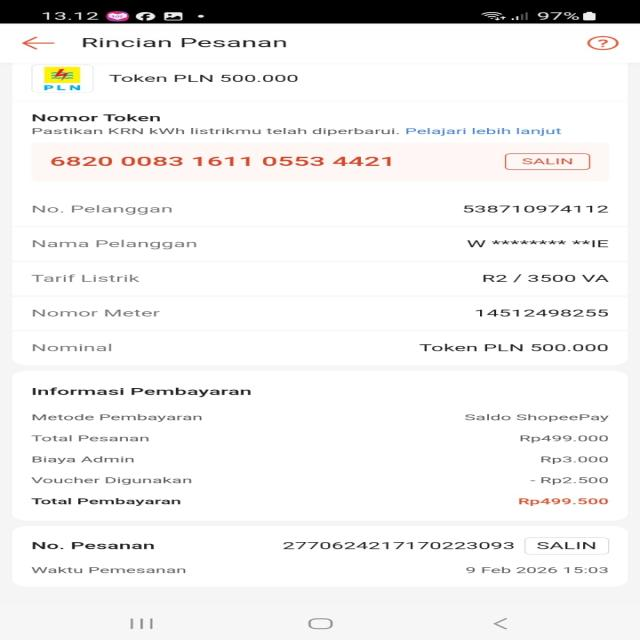date: (461, 566, 618, 576)
store: (104, 71, 308, 87)
total: (29, 496, 618, 508)
